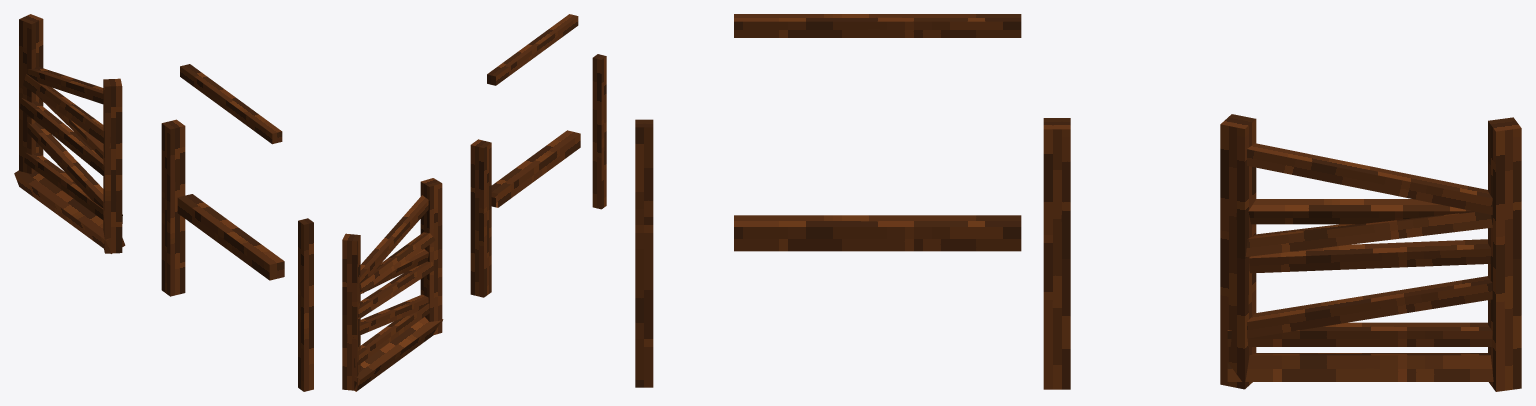
Rendered from doorPrimitiveLower.obj.
The picture shows the model from 3 angles, left to right: view 1: azimuth 30°, elevation 25°; view 2: azimuth 150°, elevation 25°; view 3: azimuth 270°, elevation 25°; orthographic projection. The views are drawn at different scales.
Parts seen in each view (by area): view 1: 42-westFace, 42-northFace, 42-topFace, 42-bottomFace; view 2: 42-northFace, 42-eastFace, 42-westFace, 42-topFace; view 3: 42-southFace, 42-westFace, 42-eastFace, 42-topFace.
Part boxes in pixels (<box>): 42-westFace: <box>14,19,313,391</box>; 42-northFace: <box>14,19,303,391</box>; 42-topFace: <box>19,14,313,224</box>; 42-bottomFace: <box>106,131,284,280</box>; 42-northFace: <box>355,16,606,391</box>; 42-eastFace: <box>342,58,601,391</box>; 42-westFace: <box>355,14,580,379</box>; 42-topFace: <box>342,54,606,389</box>; 42-southFace: <box>635,21,1521,391</box>; 42-westFace: <box>734,14,1495,391</box>; 42-eastFace: <box>1245,119,1256,388</box>; 42-topFace: <box>635,114,1521,131</box>.
Size of the model in its own units: 0.1452 by 1.41 by 3.09.
Materials: 1 (1 with a texture image).
